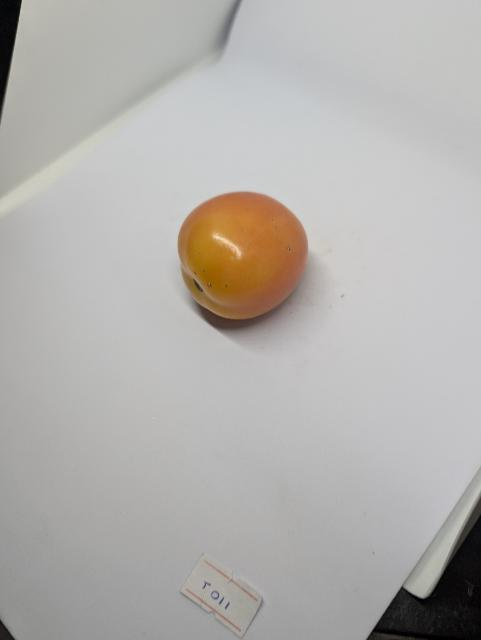turning: (169, 182, 322, 326)
